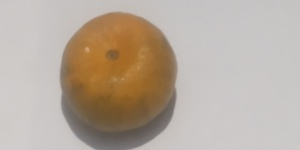BAD: (55, 11, 178, 130)
